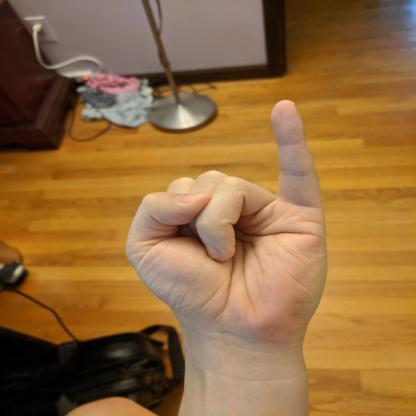I: (120, 95, 334, 349)
